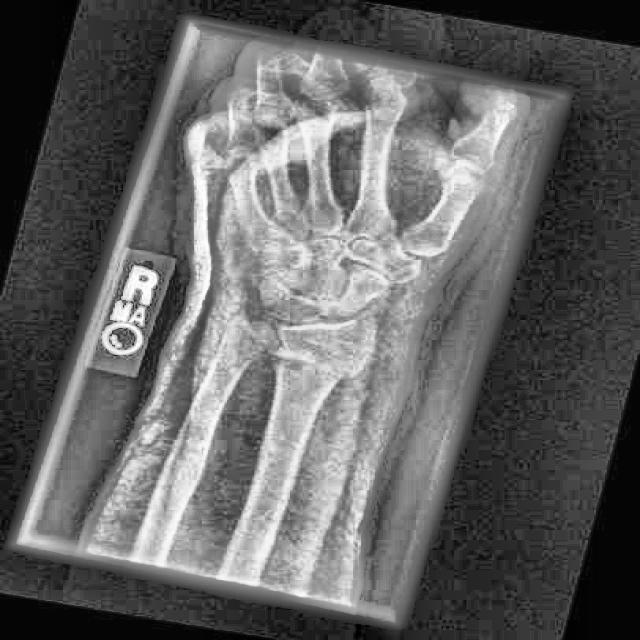fingers positive: (212, 318, 409, 403)
